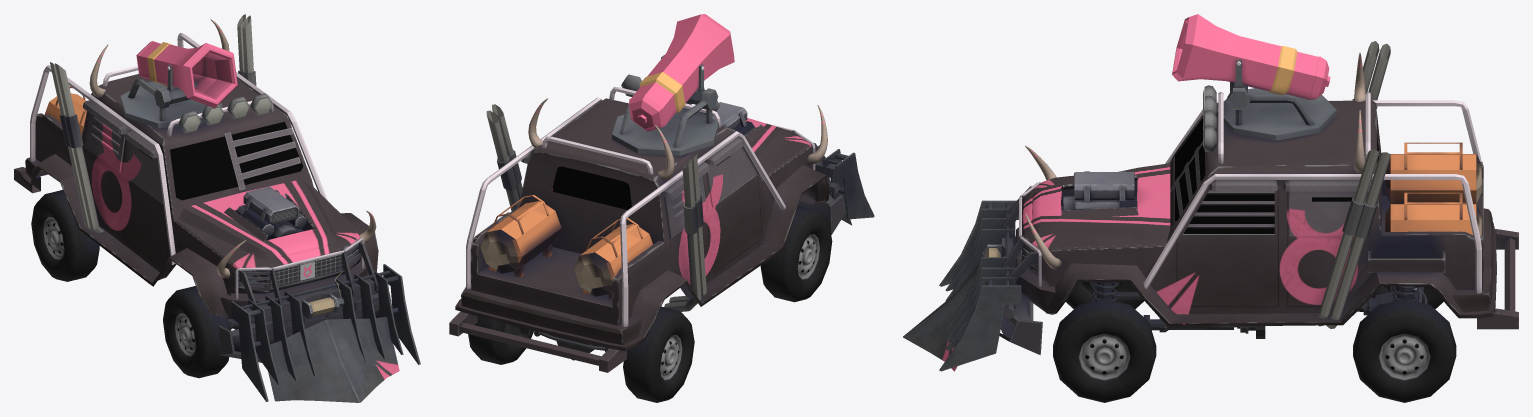
Rendered from Prop_Boss02_Car.fbx.
3 views of the same model, side by side, from view 1: azimuth 30°, elevation 25°; view 2: azimuth 150°, elevation 25°; view 3: azimuth 270°, elevation 25° (orthographic). The views are drawn at different scales.
Parts seen in each view (by area): view 1: geo_Boss02_Car; view 2: geo_Boss02_Car; view 3: geo_Boss02_Car.
Boxes of the visible parts, x1,y1,x2,y2 form: geo_Boss02_Car: (14, 14, 420, 402); geo_Boss02_Car: (449, 14, 874, 402); geo_Boss02_Car: (903, 14, 1518, 402).
Size of the model in its own units: 35.93 by 85.9 by 50.59.
